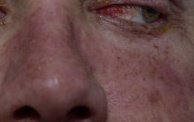SJS-TEN: (139, 14, 189, 45), (81, 0, 115, 17)
